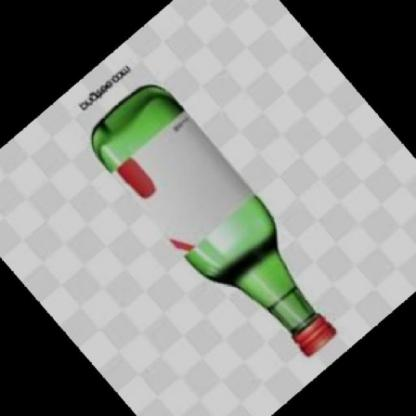Can: (90, 84, 336, 358)
